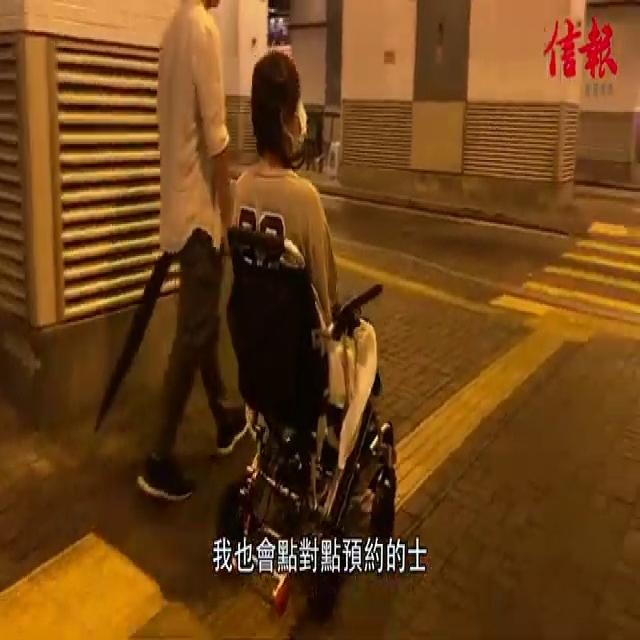wheelchairs: (212, 221, 412, 610)
